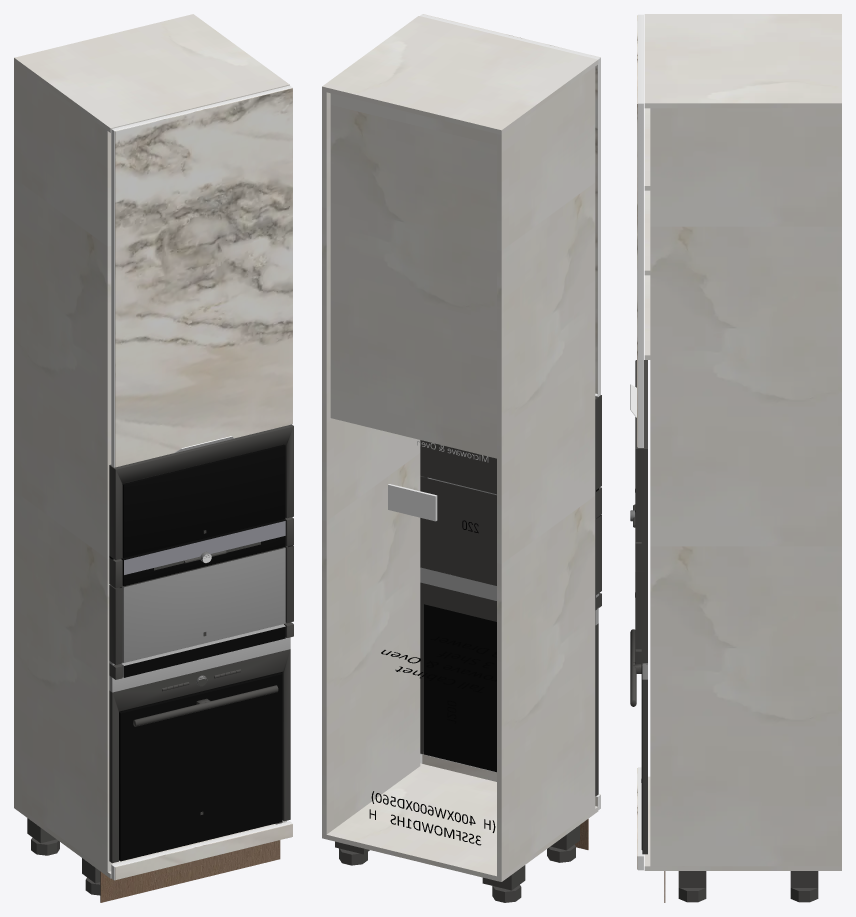
Rendered from TC3SSFMOWD1HS_LH (H2400XW600XD560).glb.
3 renders of one model, left to right at view 1: azimuth 30°, elevation 25°; view 2: azimuth 150°, elevation 25°; view 3: azimuth 270°, elevation 25°, orthographic. The views are drawn at different scales.
Size of what is drawn, in the model's own units: 0.6 by 2.5 by 0.5999.
Materials: 14 (3 with a texture image).
